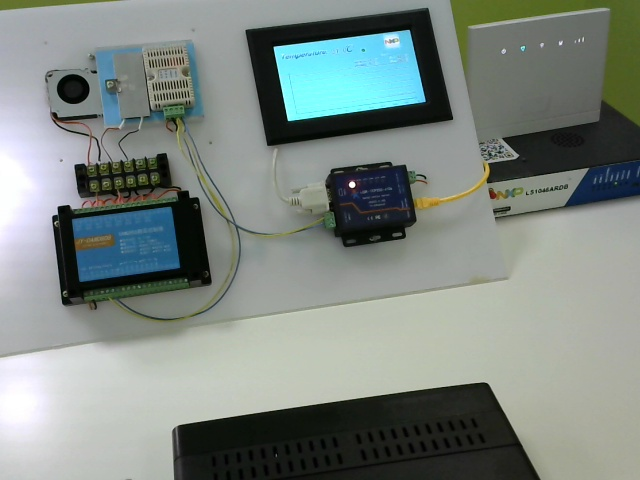fan: (43, 61, 100, 125)
heater: (110, 45, 147, 123)
modbus bridge: (313, 164, 431, 256)
relay: (29, 192, 228, 315)
termperature: (138, 38, 198, 120)
